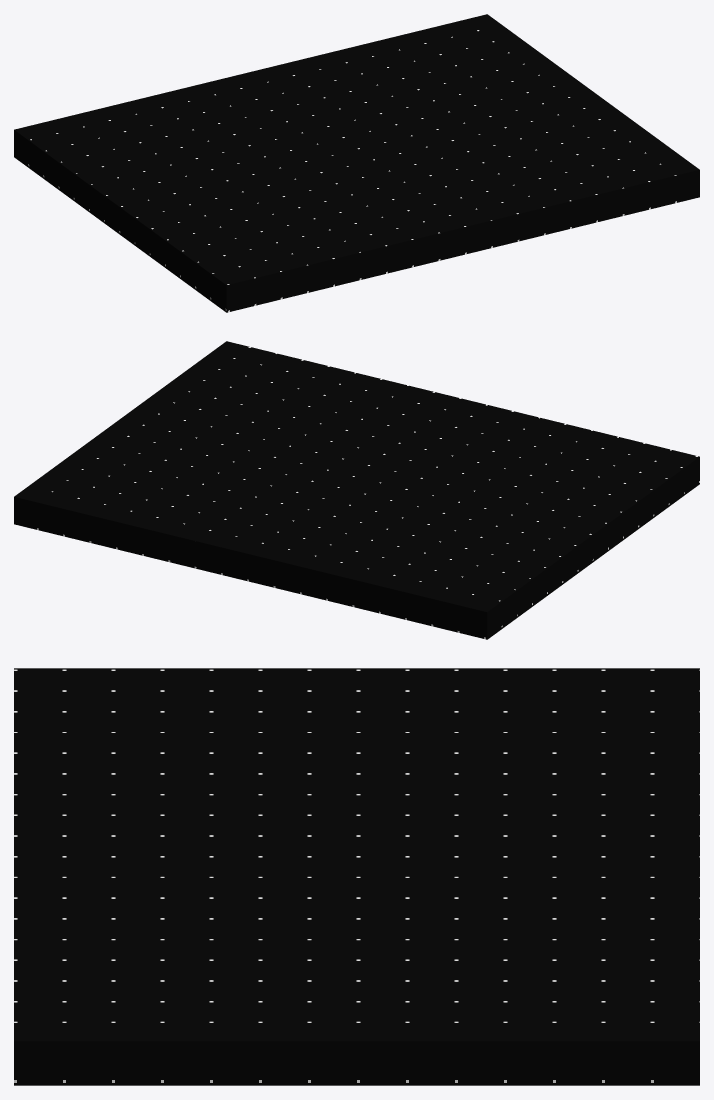
Rendered from settimanaenigmistica_usv.gltf.
3 views of the same model, one above another, from view 1: azimuth 30°, elevation 25°; view 2: azimuth 150°, elevation 25°; view 3: azimuth 270°, elevation 25° (orthographic). The views are drawn at different scales.
Visible parts, largest first — view 1: Layer.1; view 2: Layer.1; view 3: Layer.1.
Boxes of the visible parts, <box> form: Layer.1: <box>14,14,699,312</box>; Layer.1: <box>14,341,699,639</box>; Layer.1: <box>14,668,699,1085</box>.
Size of the model in its own units: 18 by 1 by 14.
Materials: 1 (1 with a texture image).
